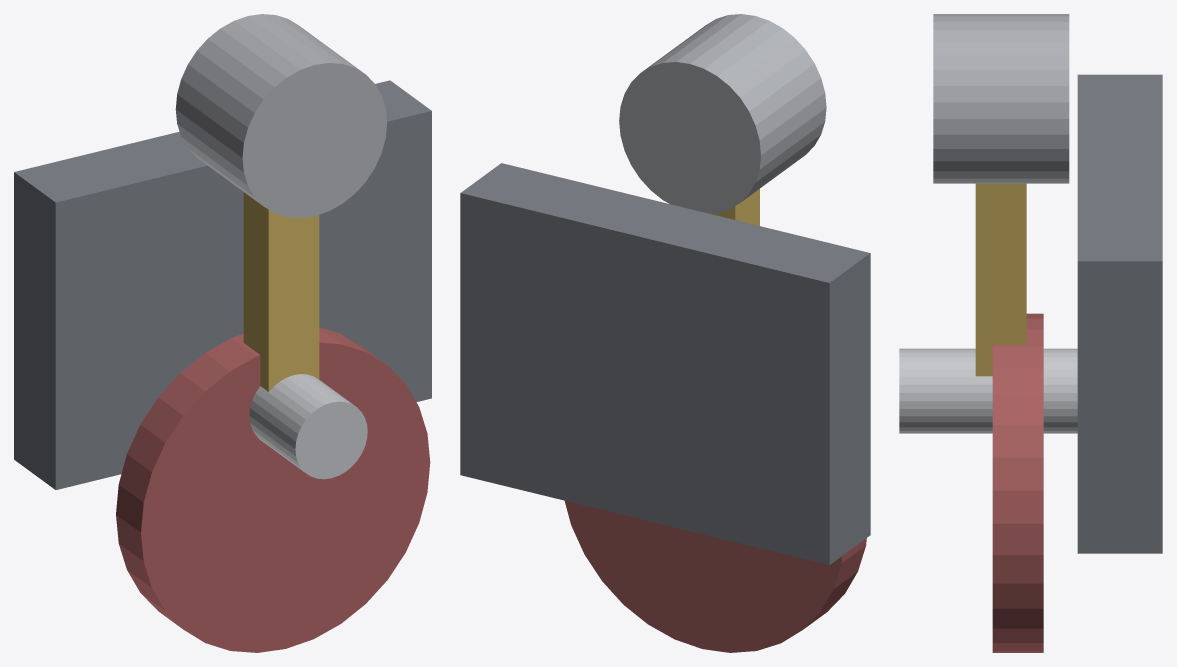
Rendered from motor_mecanismo.glb.
The picture shows the model from 3 angles, left to right: view 1: azimuth 30°, elevation 25°; view 2: azimuth 150°, elevation 25°; view 3: azimuth 270°, elevation 25°; orthographic projection. The views are drawn at different scales.
Parts seen in each view (by area): view 1: bloque_bancada, volante_inercia, piston_deslizante, biela_transmision, eje_ciguenal; view 2: bloque_bancada, piston_deslizante, volante_inercia, biela_transmision; view 3: bloque_bancada, piston_deslizante, volante_inercia, eje_ciguenal, biela_transmision.
Boxes of the visible parts, left/top/right/bottom form: bloque_bancada: left=14, top=80, right=431, bottom=489; volante_inercia: left=116, top=327, right=430, bottom=652; piston_deslizante: left=175, top=14, right=386, bottom=218; biela_transmision: left=243, top=192, right=319, bottom=391; eje_ciguenal: left=249, top=374, right=367, bottom=479; bloque_bancada: left=460, top=163, right=870, bottom=565; piston_deslizante: left=619, top=14, right=826, bottom=213; volante_inercia: left=564, top=501, right=866, bottom=652; biela_transmision: left=711, top=189, right=759, bottom=225; bloque_bancada: left=1077, top=74, right=1162, bottom=553; piston_deslizante: left=933, top=14, right=1069, bottom=183; volante_inercia: left=992, top=313, right=1043, bottom=652; eje_ciguenal: left=899, top=348, right=1077, bottom=433; biela_transmision: left=975, top=183, right=1026, bottom=376.
Size of the model in its own units: 52 by 80 by 31.
